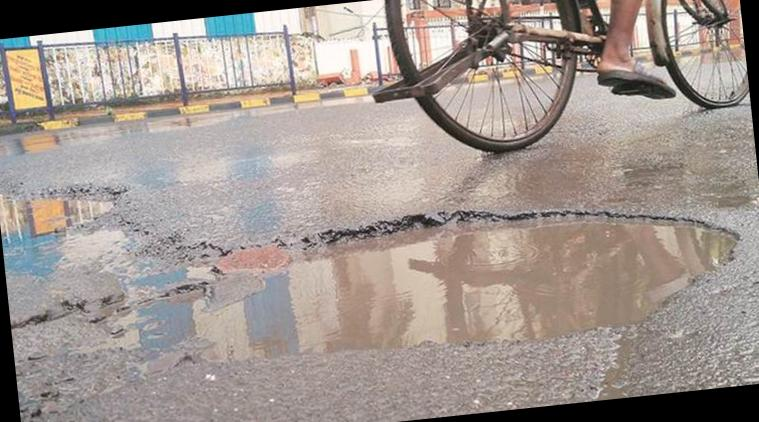pothole: (101, 171, 750, 402), (0, 154, 165, 293)
